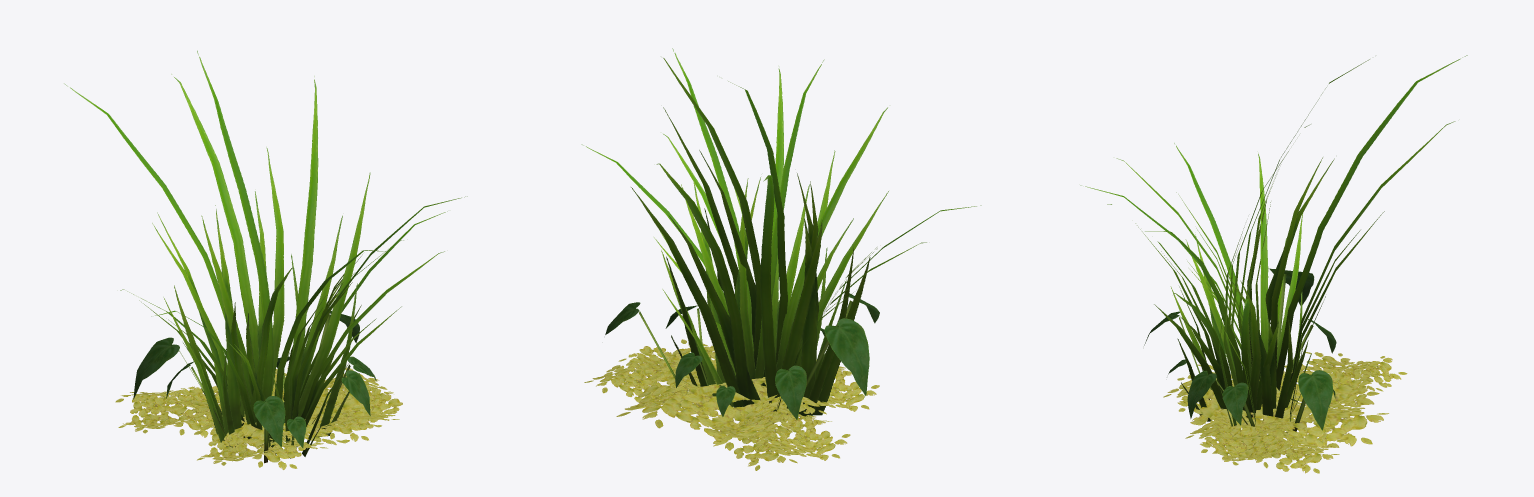
The model's file is leafplant2_lod0.fbx.
The picture shows the model from 3 angles, left to right: view 1: azimuth 30°, elevation 25°; view 2: azimuth 150°, elevation 25°; view 3: azimuth 270°, elevation 25°; orthographic projection. The views are drawn at different scales.
Visible parts, largest first — view 1: Mesh Object; view 2: Mesh Object; view 3: Mesh Object.
Part boxes in pixels (bbox=[...]): Mesh Object: bbox=[64, 50, 467, 469]; Mesh Object: bbox=[581, 48, 981, 470]; Mesh Object: bbox=[1080, 55, 1467, 473].
Bounding box in the file's own units: 3.43 × 3.02 × 3.57.
